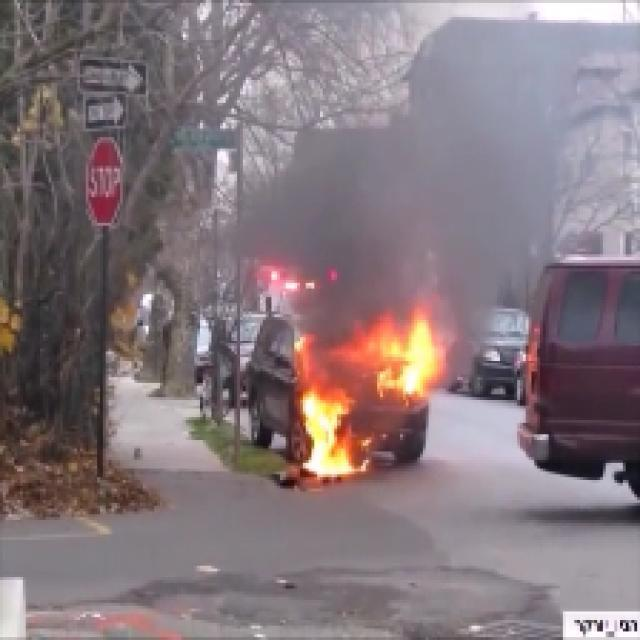Fire: (294, 354, 360, 516), (376, 326, 442, 408)
